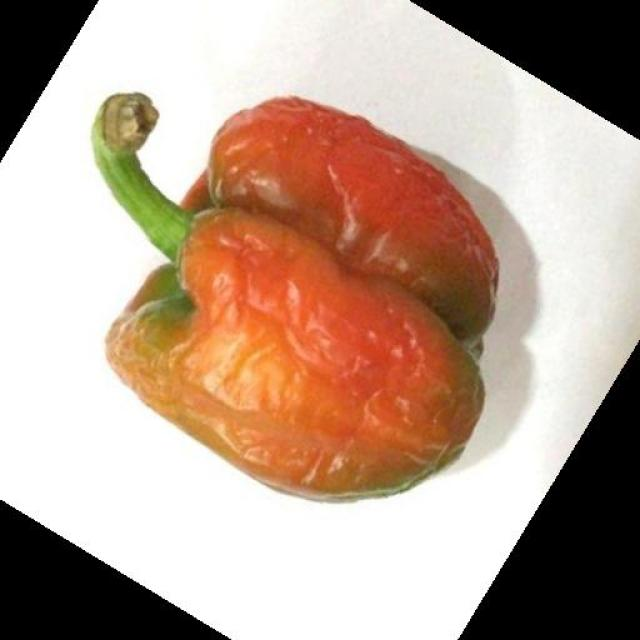Stale_Capsicum: (71, 24, 500, 500)
